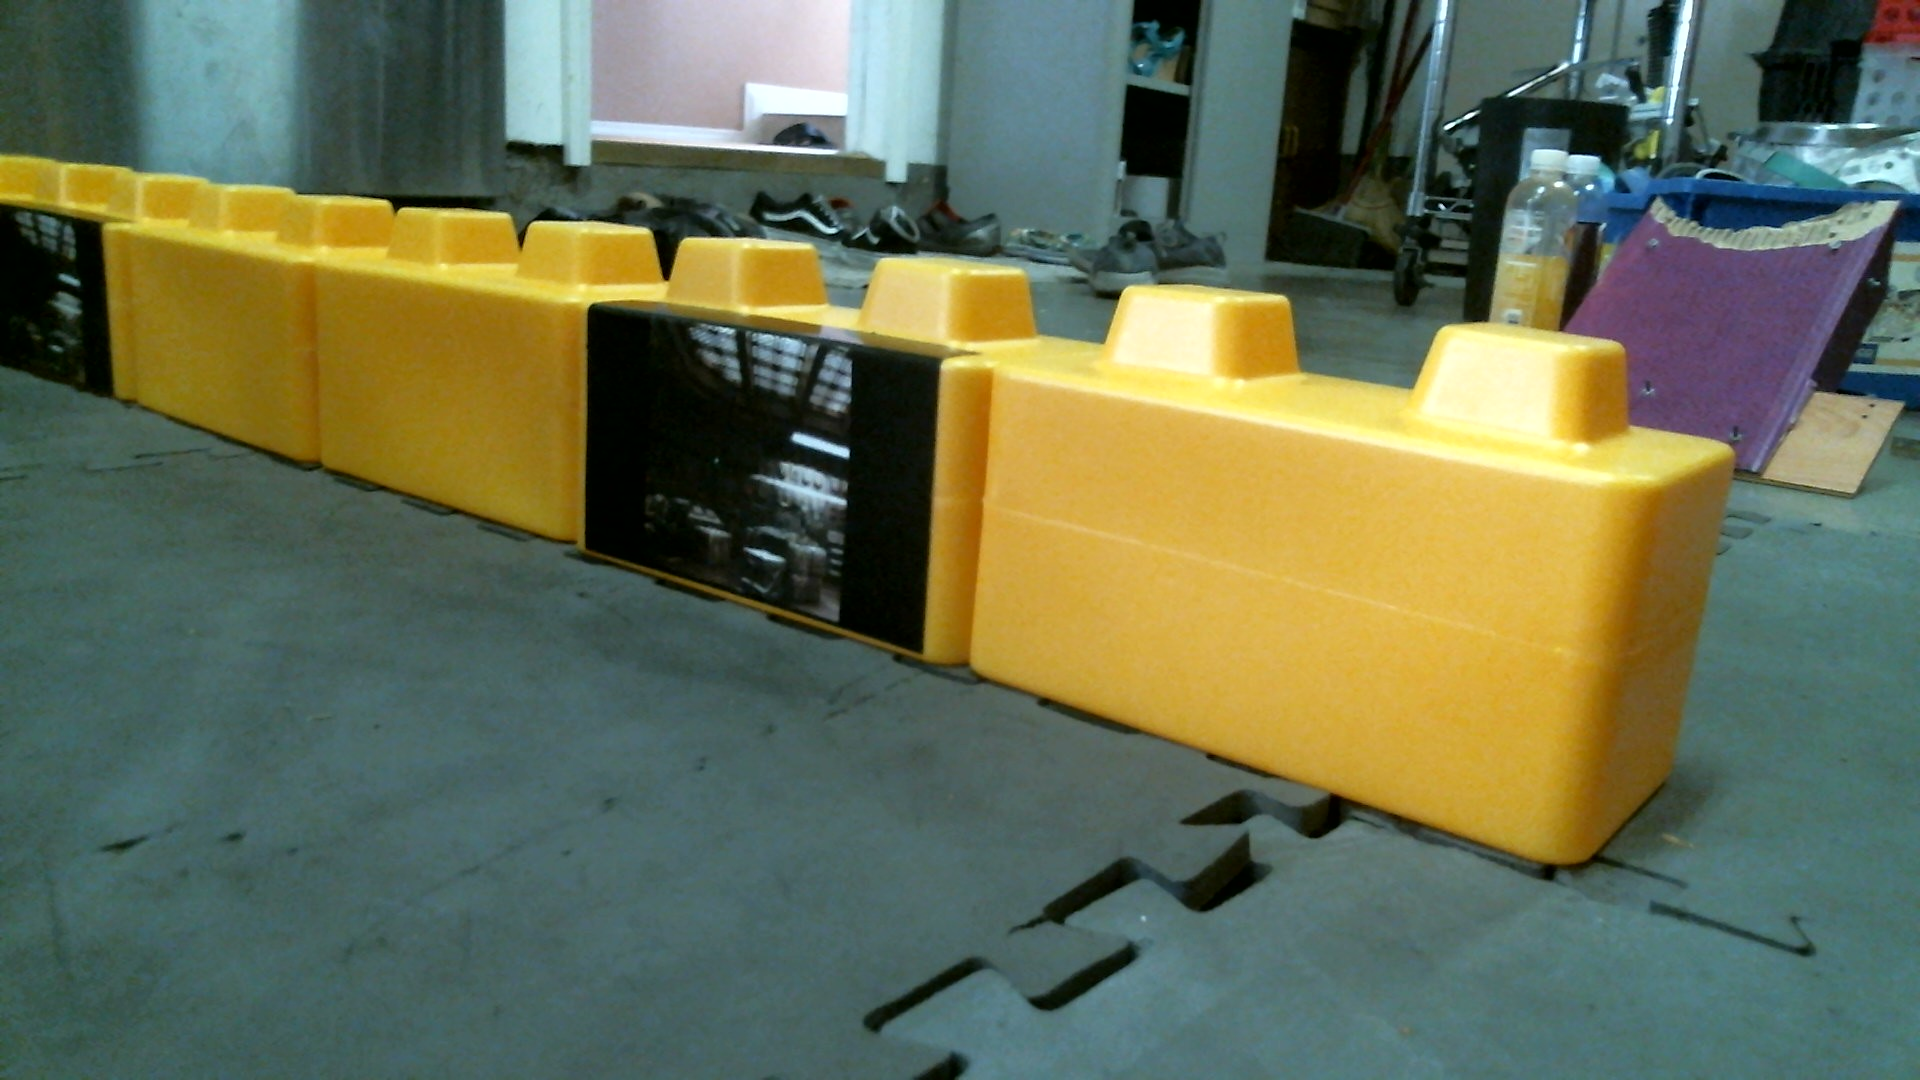skystone: (575, 225, 1005, 670), (1, 145, 138, 410)
stone: (965, 276, 1741, 874), (320, 196, 663, 537), (127, 182, 388, 467)
